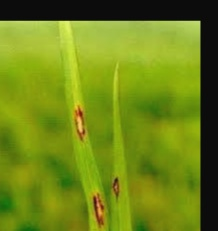Brown_Spot: (81, 187, 111, 223), (75, 100, 88, 139), (108, 169, 123, 198)
